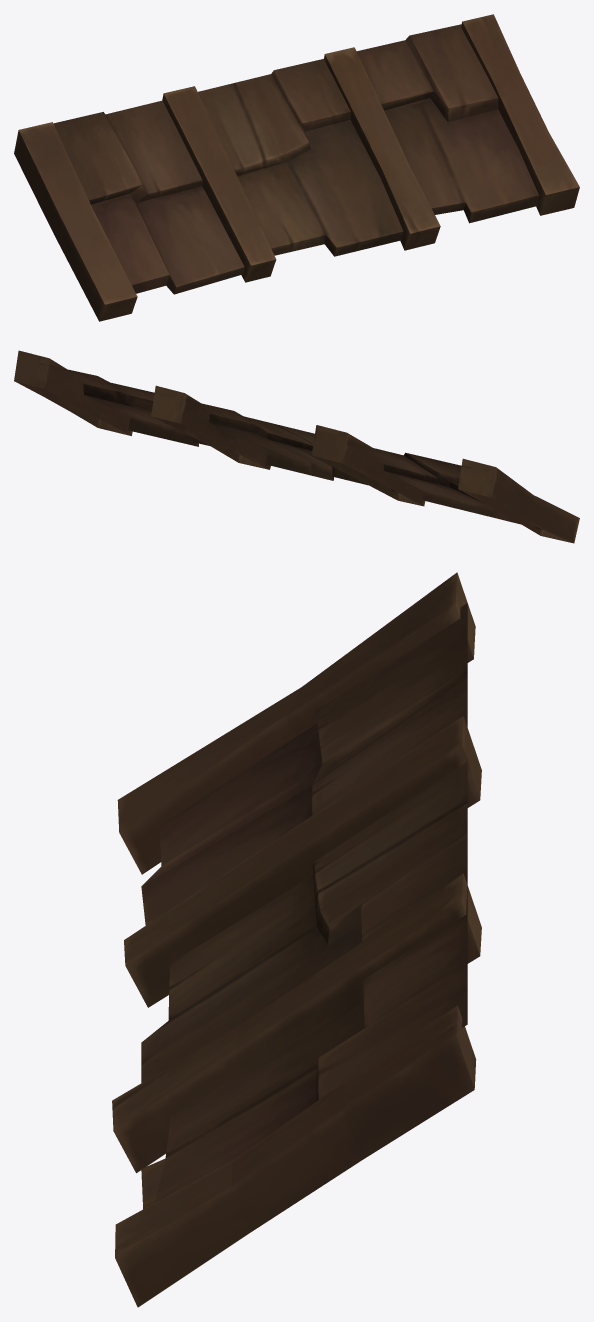
File: Eave01.FBX
3 views of the same model, one above another, from view 1: azimuth 30°, elevation 25°; view 2: azimuth 150°, elevation 25°; view 3: azimuth 270°, elevation 25° (orthographic). The views are drawn at different scales.
Visible parts, largest first — view 1: Object414; view 2: Object414; view 3: Object414.
Part boxes in pixels (x1,y1,x2,y2): Object414: [14, 14, 579, 321]; Object414: [14, 350, 579, 543]; Object414: [112, 572, 481, 1307].
Size of the model in its own units: 1.96 by 0.5376 by 0.6597.
Materials: 1 (1 with a texture image).
